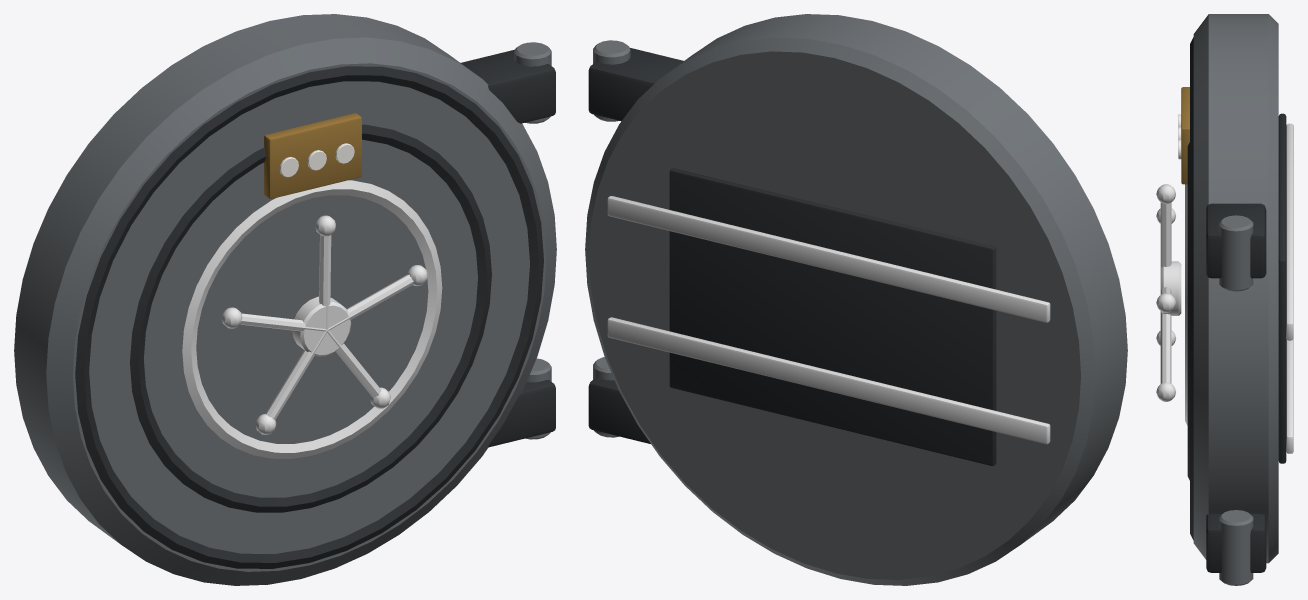
The model's file is tideline_vault_door.glb.
3 views of the same model, side by side, from view 1: azimuth 30°, elevation 25°; view 2: azimuth 150°, elevation 25°; view 3: azimuth 270°, elevation 25° (orthographic). The views are drawn at different scales.
Parts seen in each view (by area): view 1: tideline_vault_door; view 2: tideline_vault_door; view 3: tideline_vault_door.
Boxes of the visible parts, x1,y1,x2,y2 form: tideline_vault_door: (14, 14, 556, 585); tideline_vault_door: (585, 14, 1127, 585); tideline_vault_door: (1156, 14, 1293, 585).
Bounding box in the file's own units: 2.23 × 2.2 × 0.55.
